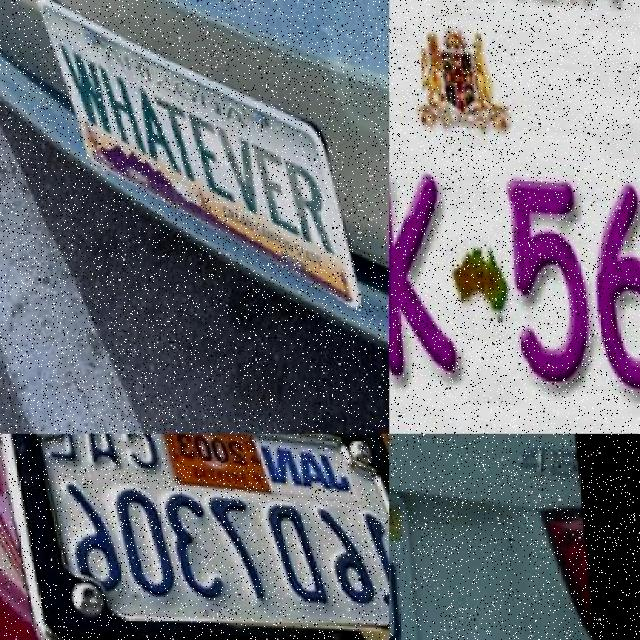licenseplate: (0, 194, 532, 388)
